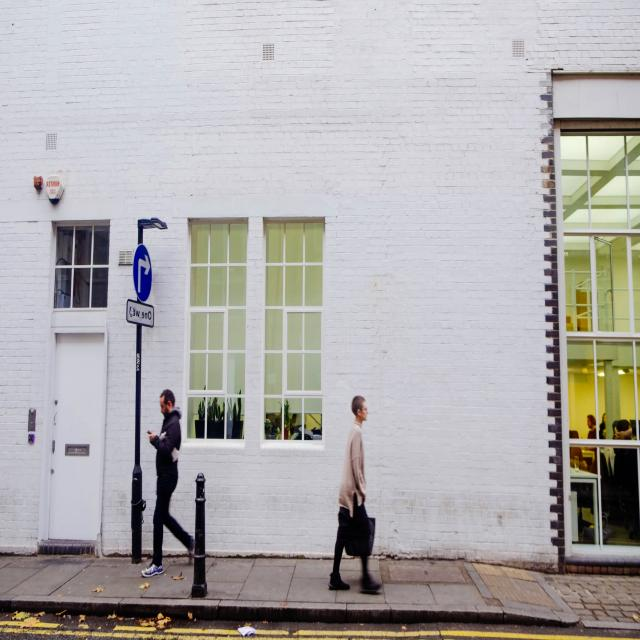adult: (140, 386, 195, 582), (326, 390, 378, 594)
